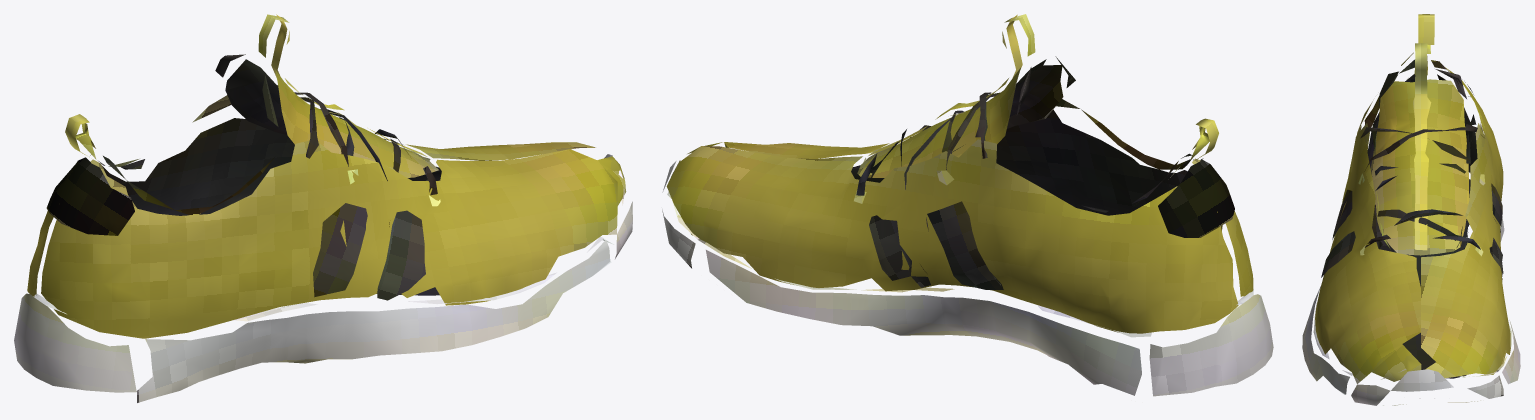
The model's file is shoe-lemon-far.glb.
The picture shows the model from 3 angles, left to right: view 1: azimuth 30°, elevation 25°; view 2: azimuth 150°, elevation 25°; view 3: azimuth 270°, elevation 25°; orthographic projection. The views are drawn at different scales.
Visible parts, largest first — view 1: Shoe; view 2: Shoe; view 3: Shoe.
Boxes of the visible parts, bbox=[...] form: Shoe: bbox=[14, 14, 632, 402]; Shoe: bbox=[662, 14, 1273, 396]; Shoe: bbox=[1302, 14, 1520, 405].
Bounding box in the file's own units: 0.2957 × 0.1512 × 0.1145.
Materials: 1 (1 with a texture image).
